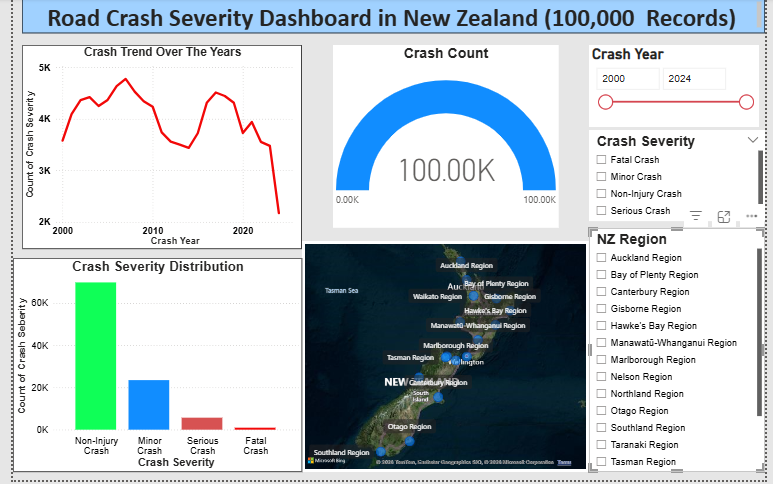

Layout of this report page (visuals, bound fields, positions):
{"tool":"powerbi","page":{"name":"Crash Summary Dashboard","canvas":[1280,820],"ordinal":0},"visuals":[{"type":"slicer","title":"Crash Year","fields":{"Values":["new_cas1.crash_Year"]},"box":[979.9,80,289.2,137.8],"z":0},{"type":"slicer","fields":{"Values":["new_cas1.crash_Severity"]},"box":[979.3,225.1,300.7,154.5],"z":1000},{"type":"slicer","fields":{"Values":["new_cas1.NZ Region"]},"box":[979.9,391.3,299.4,415.1],"z":2000},{"type":"map","fields":{"Category":["new_cas1.NZ Region"]},"box":[491.7,413.4,488.3,393],"z":3000},{"type":"lineChart","title":"Crash Trend Over The Years","fields":{"Category":["new_cas1.crash_Year"],"Y":["CountNonNull(new_cas1.crash_Severity)"]},"box":[15.3,80,476.3,347.1],"z":4000},{"type":"clusteredColumnChart","title":"Crash Severity Distribution","fields":{"Y":["CountNonNull(new_cas1.crash_Severity)"],"Category":["new_cas1.crash_Severity"]},"box":[0,442.3,491.7,364.1],"z":5000},{"type":"textbox","box":[15.3,0,1264,59.5],"z":6000},{"type":"gauge","title":"Crash Count","fields":{"Y":["CountNonNull(new_cas1.crash_Severity)"]},"box":[544.4,80,384.5,311.3],"z":7000}]}

Visuals, with their boxes in screenshot pixels (x1, y1, x2, y2), scaled from the page's 1280x820 canvas onto the 773x484 screenshot:
"Crash Year" slicer: 592, 47, 766, 129
slicer - new_cas1.crash_Severity: 591, 133, 772, 224
slicer - new_cas1.NZ Region: 592, 231, 772, 476
map - new_cas1.NZ Region: 297, 244, 592, 476
"Crash Trend Over The Years" lineChart: 9, 47, 297, 252
"Crash Severity Distribution" clusteredColumnChart: 0, 261, 297, 476
textbox: 9, 0, 772, 35
"Crash Count" gauge: 329, 47, 561, 231
